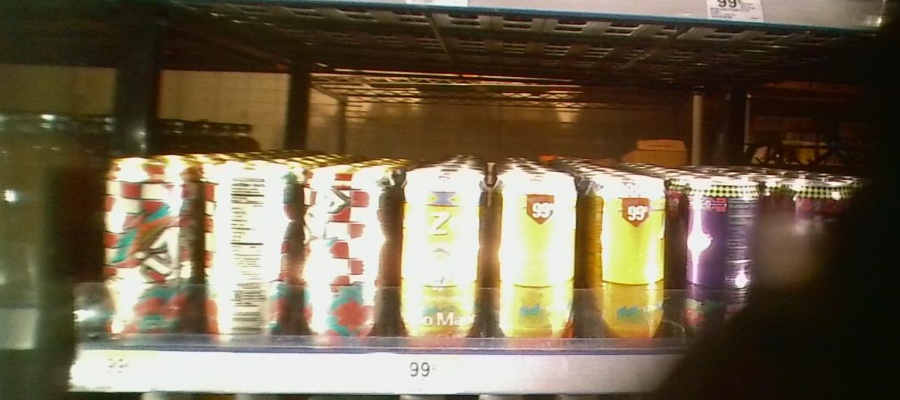bottle: (96, 149, 196, 343), (295, 150, 390, 352), (201, 152, 291, 347), (486, 165, 579, 351), (396, 161, 481, 349), (673, 170, 762, 348), (583, 165, 671, 341)
